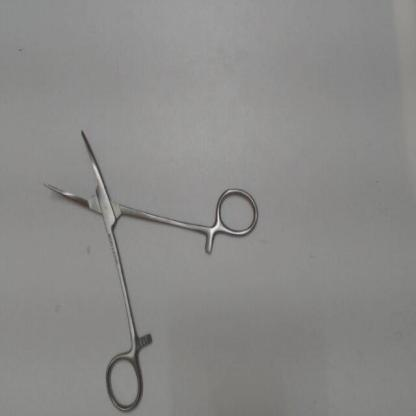Crile Artery Forceps: (36, 119, 266, 414)
